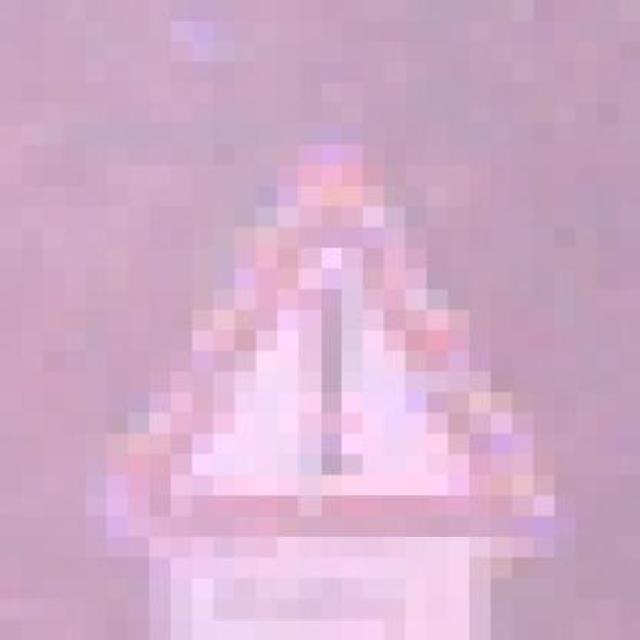Attention Please-: (107, 103, 576, 557)
